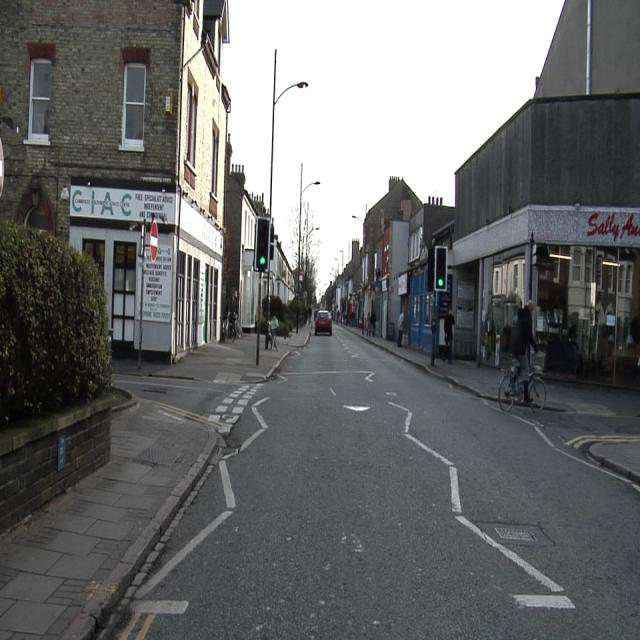Bicyclist: (501, 305, 545, 407)
Building: (323, 1, 638, 382), (4, 0, 290, 361)
Car: (315, 310, 331, 334)
Road: (100, 326, 635, 639)
Tree: (1, 223, 111, 421), (299, 199, 320, 312)
